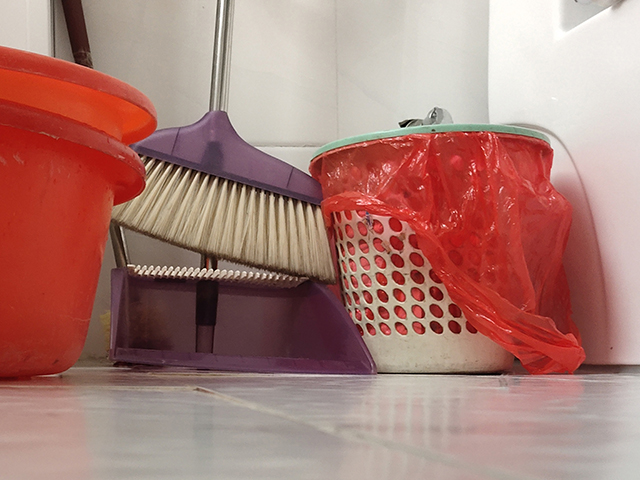trashcan: (308, 121, 555, 375)
